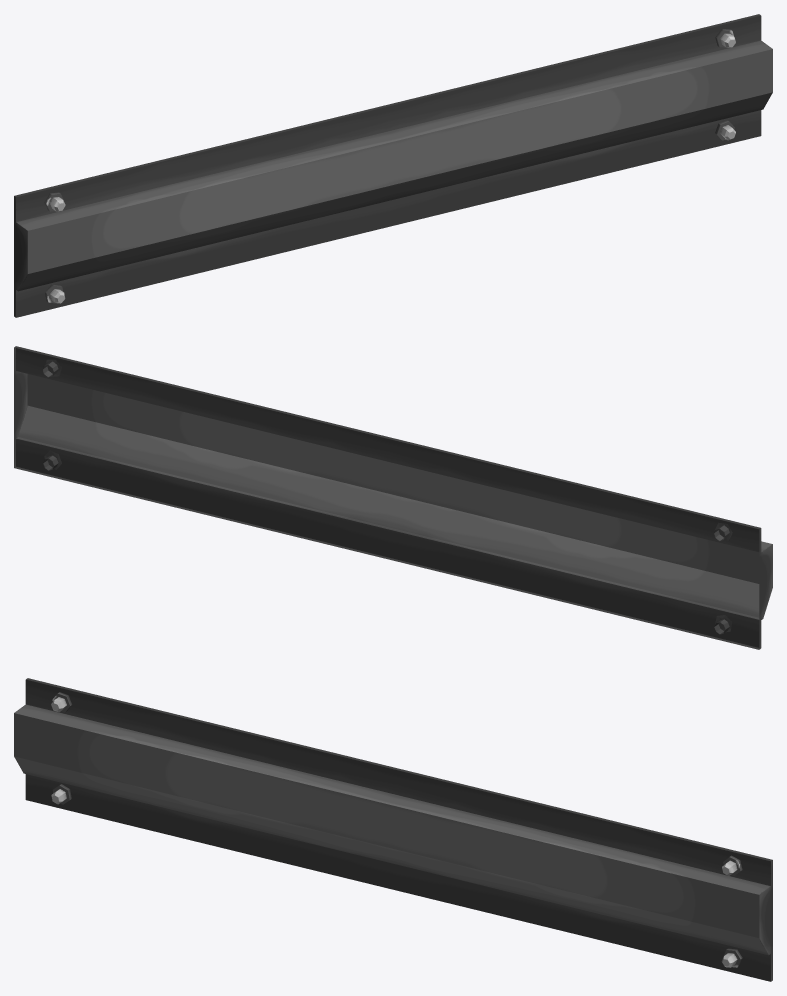
Rendered from EnganchadorNotas.fbx.
3 views of the same model, one above another, from view 1: azimuth 30°, elevation 25°; view 2: azimuth 150°, elevation 25°; view 3: azimuth 330°, elevation 25° (orthographic).
Visible parts, largest first — view 1: Box005; view 2: Box005; view 3: Box005.
Boxes of the visible parts, x1,y1,x2,y2 form: Box005: [14, 14, 772, 317]; Box005: [14, 346, 772, 649]; Box005: [14, 678, 772, 981].
Size of the model in its own units: 247 by 38.2 by 9.49.
